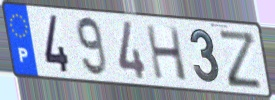3: (188, 27, 221, 87)
4: (116, 19, 148, 83), (42, 14, 71, 76)
9: (76, 16, 110, 80)
H: (143, 23, 189, 83)
Z: (217, 27, 264, 91)
